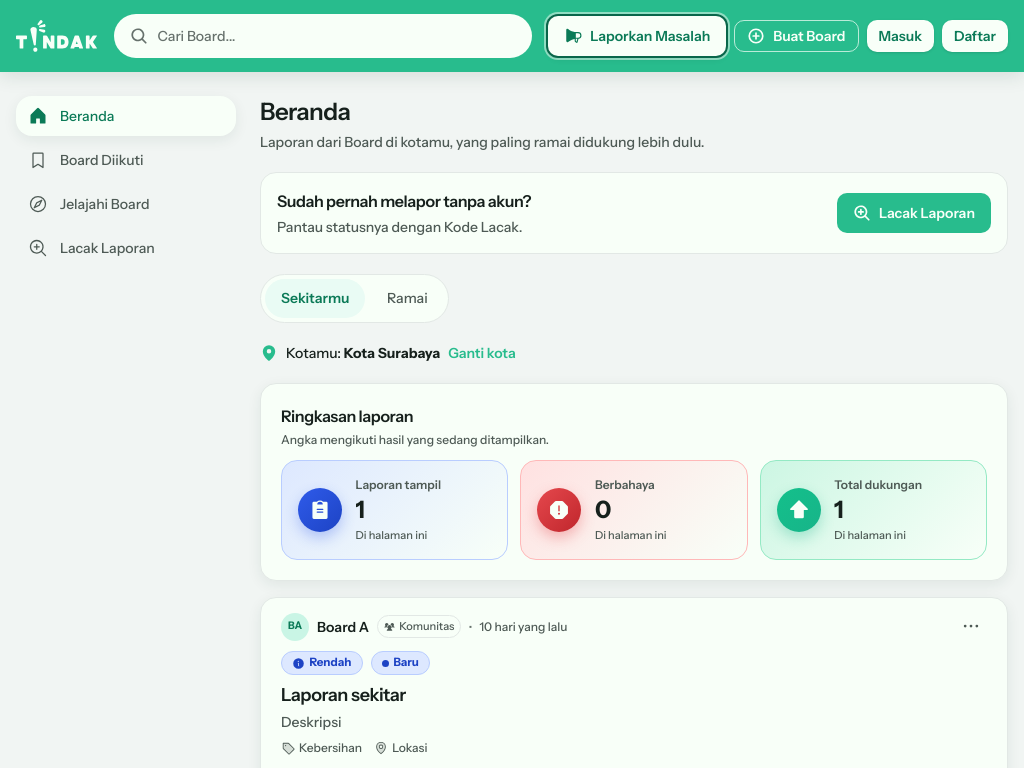
Beranda › kota bisa diganti dengan mengetik ulang dan panel kanan hanya berisi Board kota itu
Click the button "Ganti kota" at [482, 353], box x1=448 y1=343 x2=516 y2=363
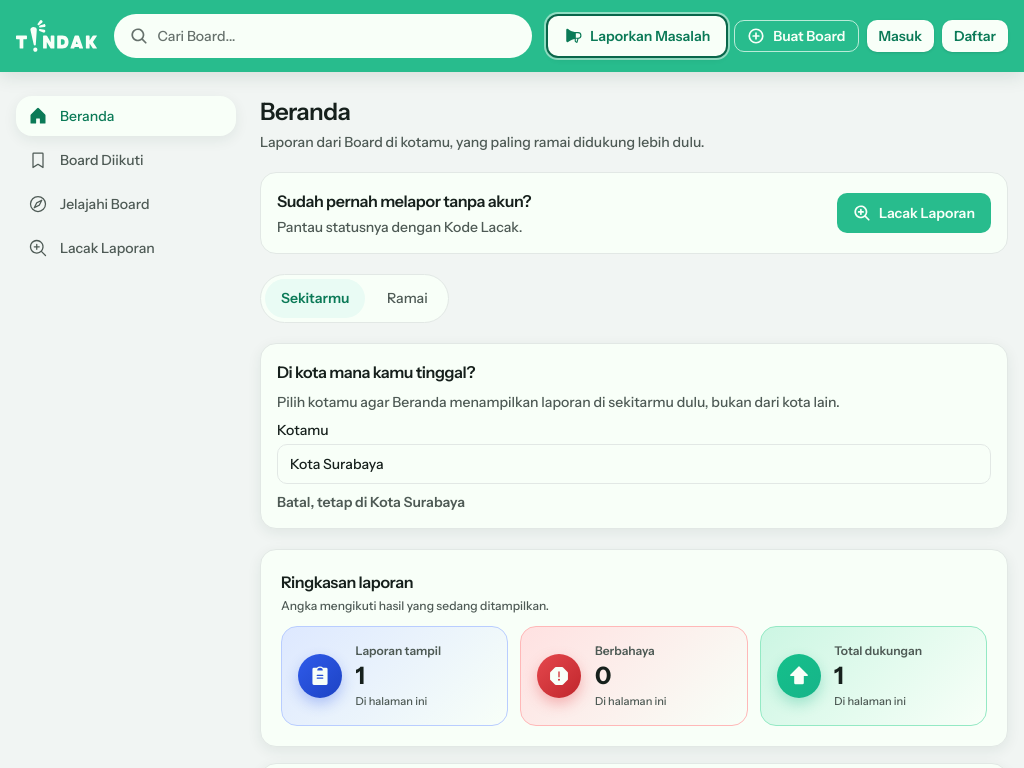
Now the dropdown labelled "Kotamu" holds "Kota Surabaya"
Replace the text in the dropdown labelled "Kotamu" with "aceh" at [634, 464], box x1=277 y1=444 x2=991 y2=484
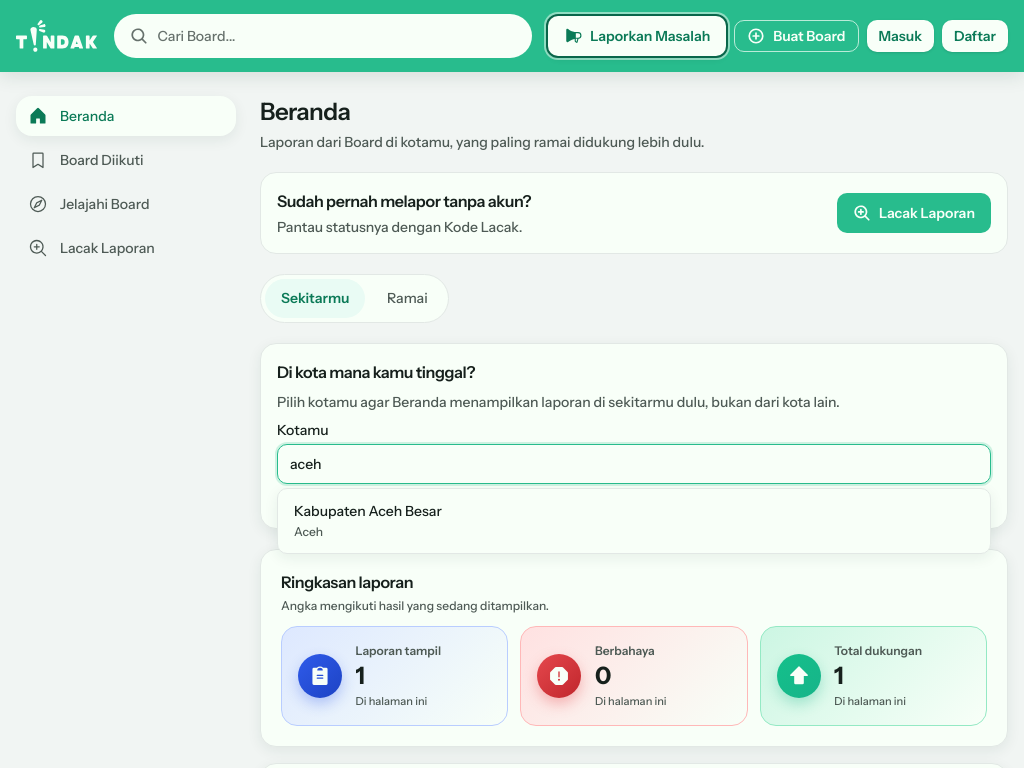
Click the option "Kabupaten Aceh Besar Aceh" at [368, 511], box x1=282 y1=493 x2=986 y2=549
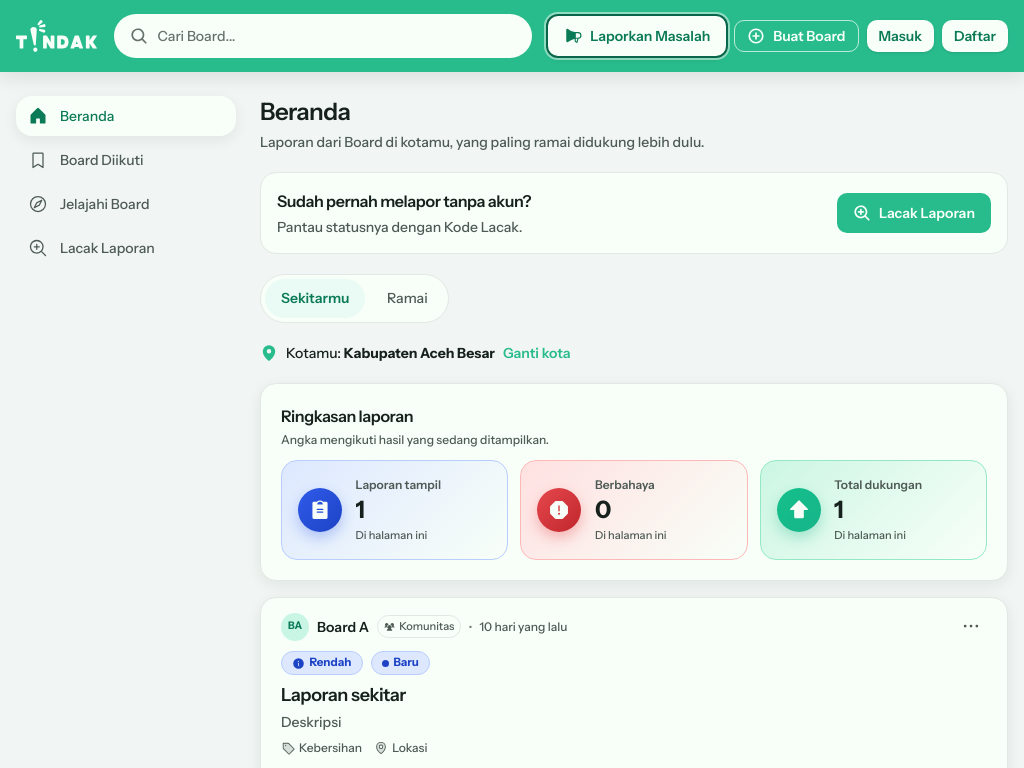
Now the text "Kabupaten Aceh Besar" is shown, box x1=344 y1=344 x2=495 y2=362
